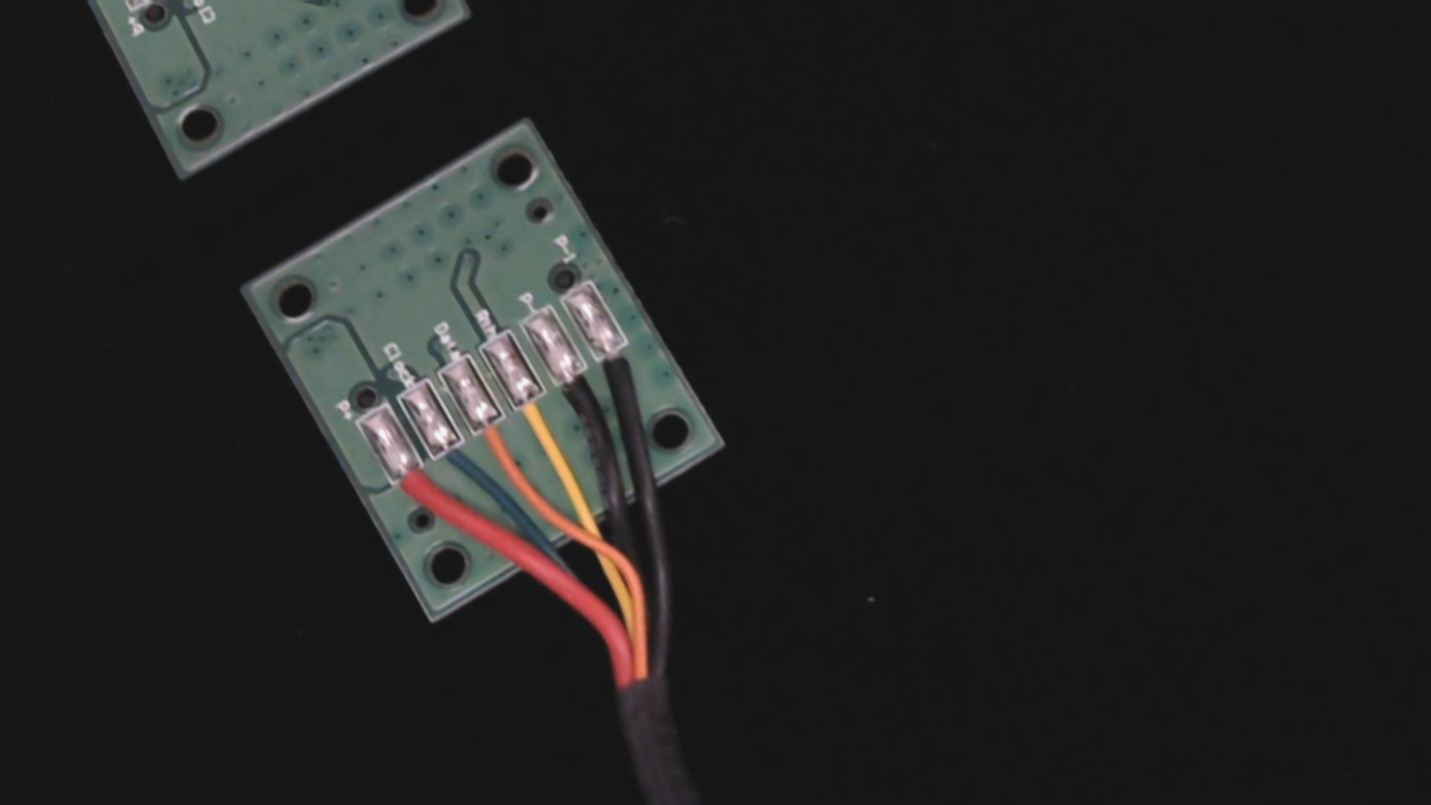Black: (538, 345, 620, 435)
Black1: (582, 324, 663, 413)
Green: (419, 421, 493, 502)
Orange: (457, 395, 532, 478)
Red: (378, 445, 456, 532)
Yellow: (497, 369, 577, 457)
